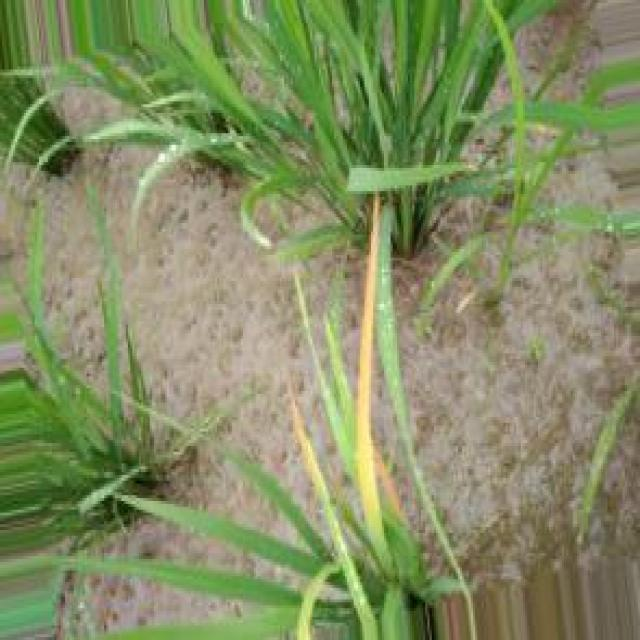Rice Tungro: (355, 194, 381, 545)
